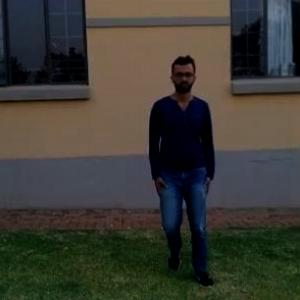follow: (147, 57, 211, 276)
